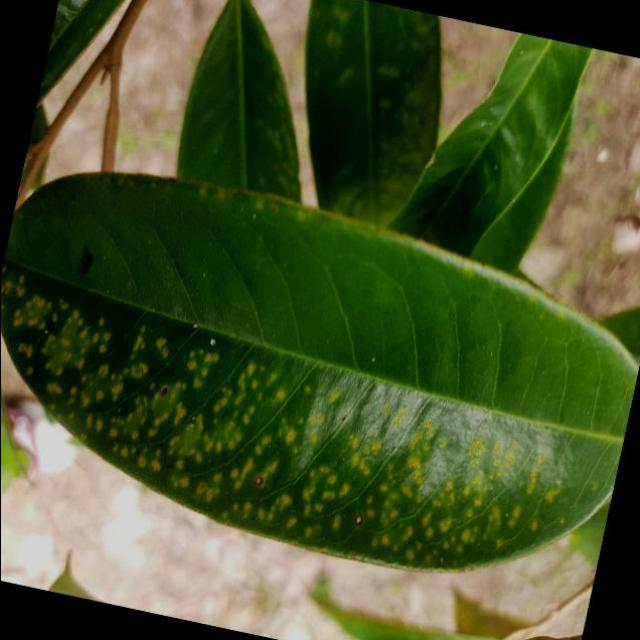Leaf Spot: (0, 131, 640, 629)
